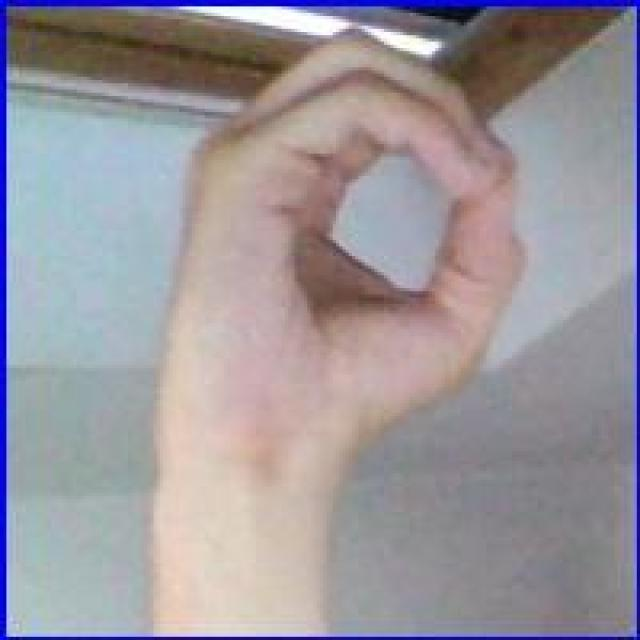O: (163, 18, 534, 488)
